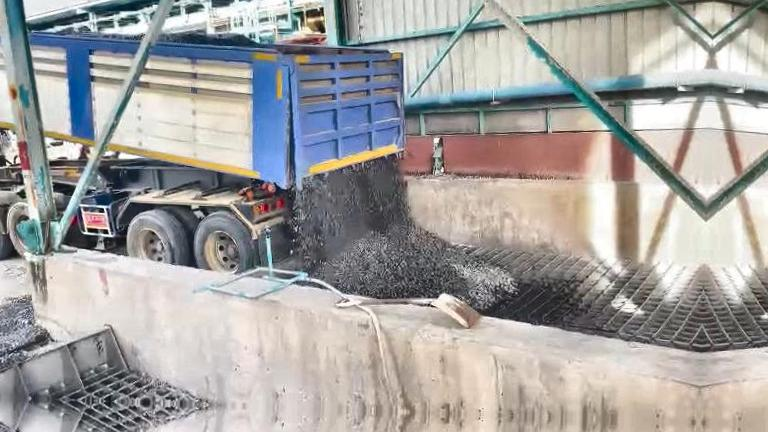gravel: (292, 156, 517, 309), (0, 297, 37, 389), (159, 31, 264, 47)
